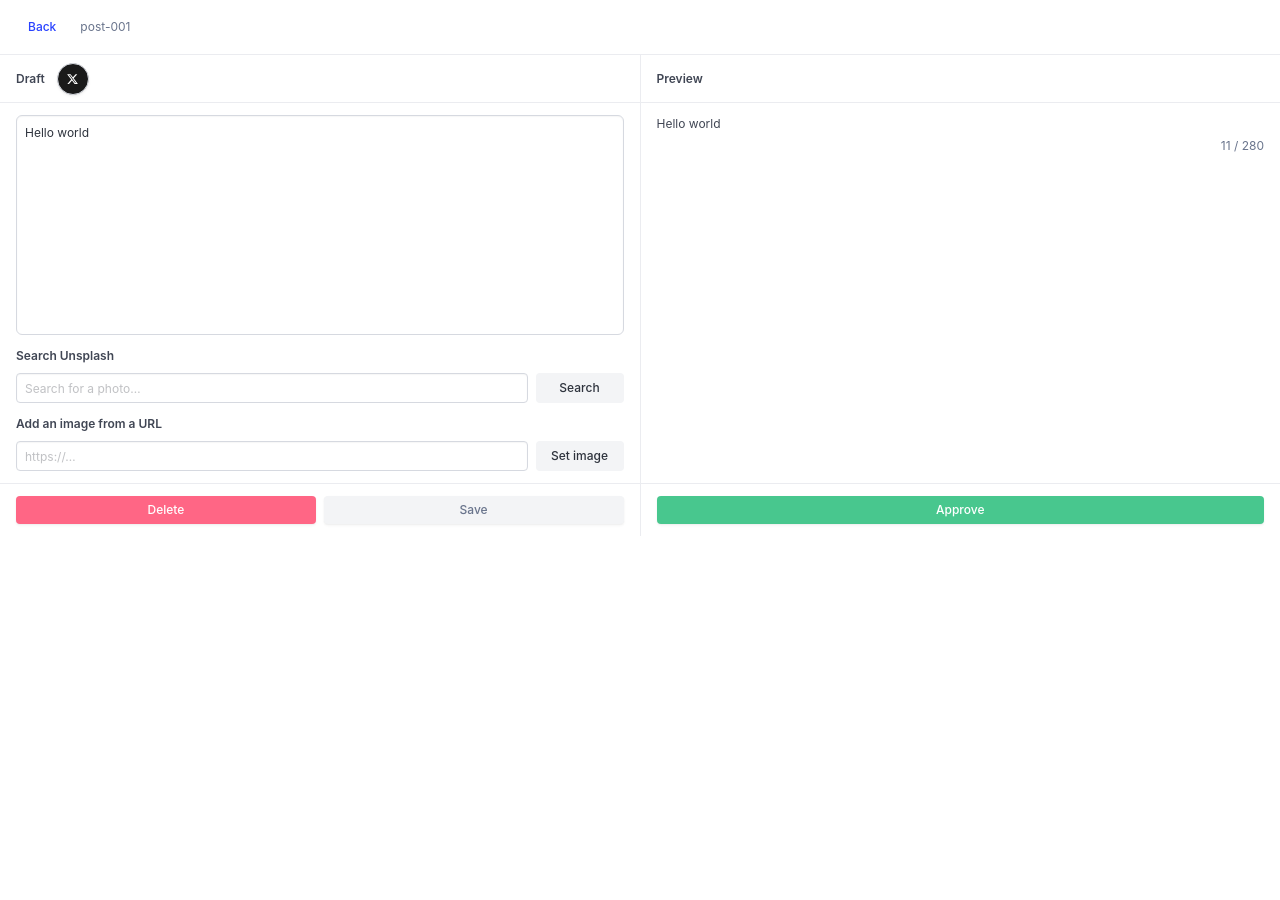
Test: EditPostView — Delete error › shows delete error message when delete_post fails
This screenshot has width=1280, height=900.
Click the button "Delete" at (166,510), box top-left (16, 496), bottom-right (316, 524)
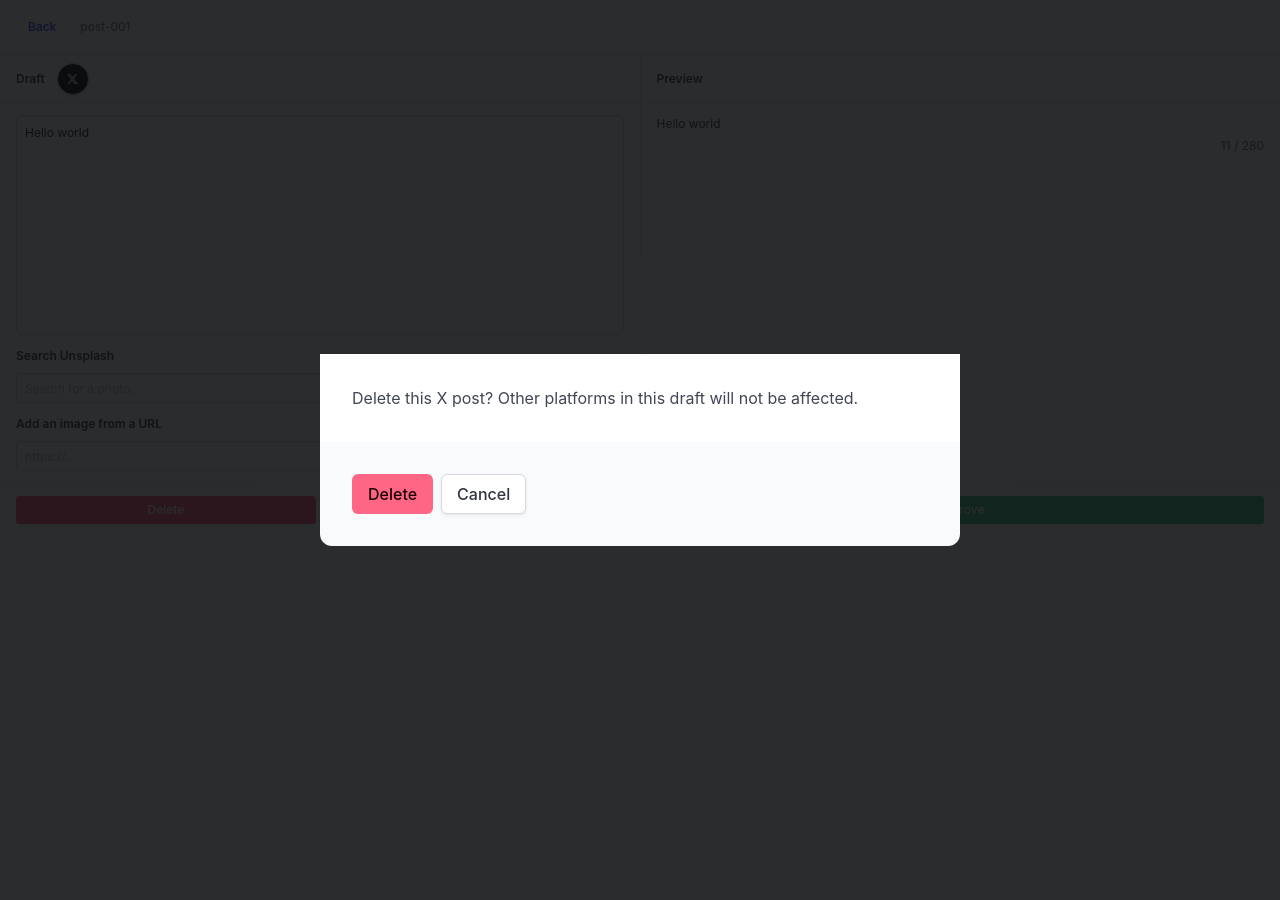
Click the button with test id "confirm-delete" at (393,494), box top-left (352, 474), bottom-right (433, 514)
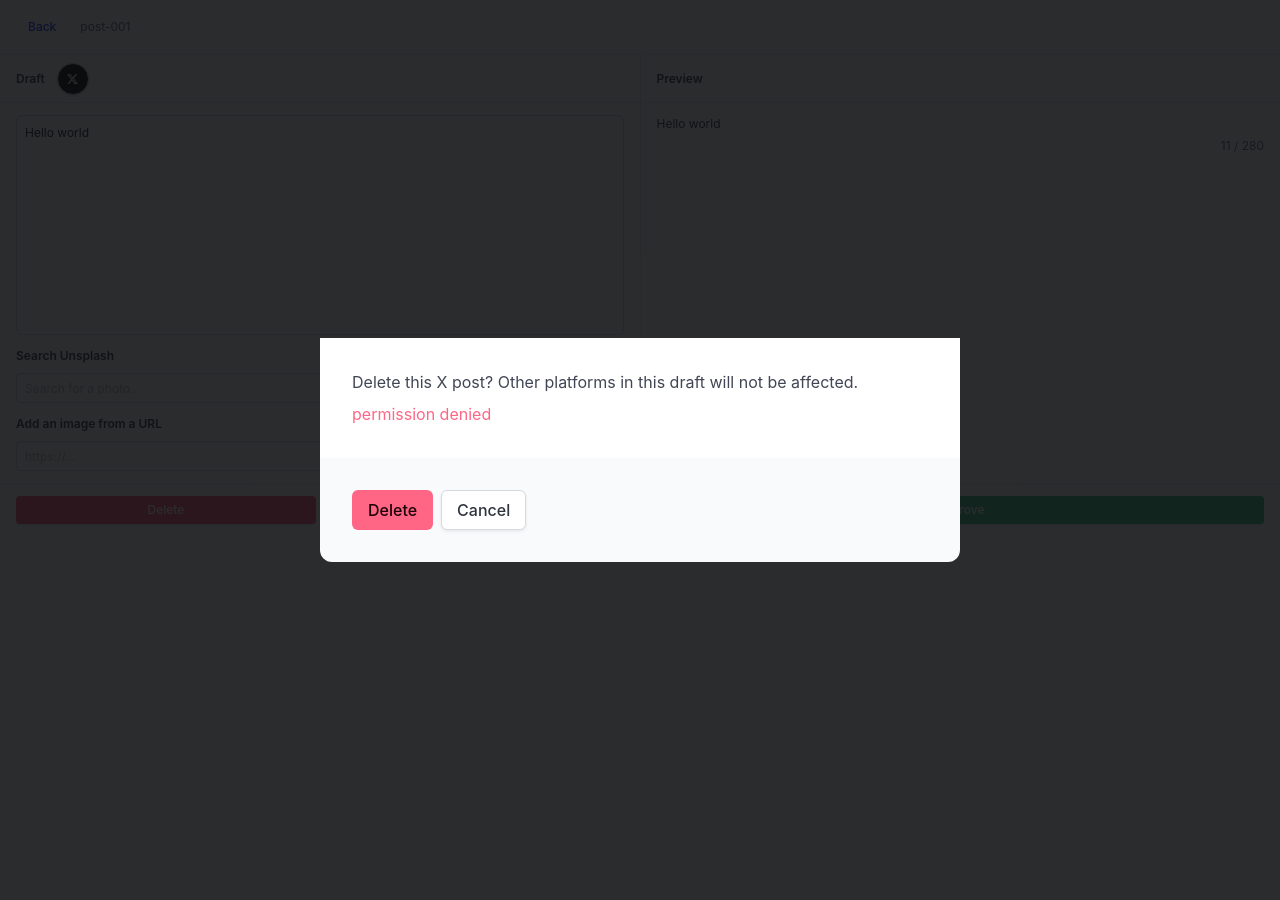
Result: the text "permission denied" is shown at top-left (352, 404), bottom-right (491, 424)
